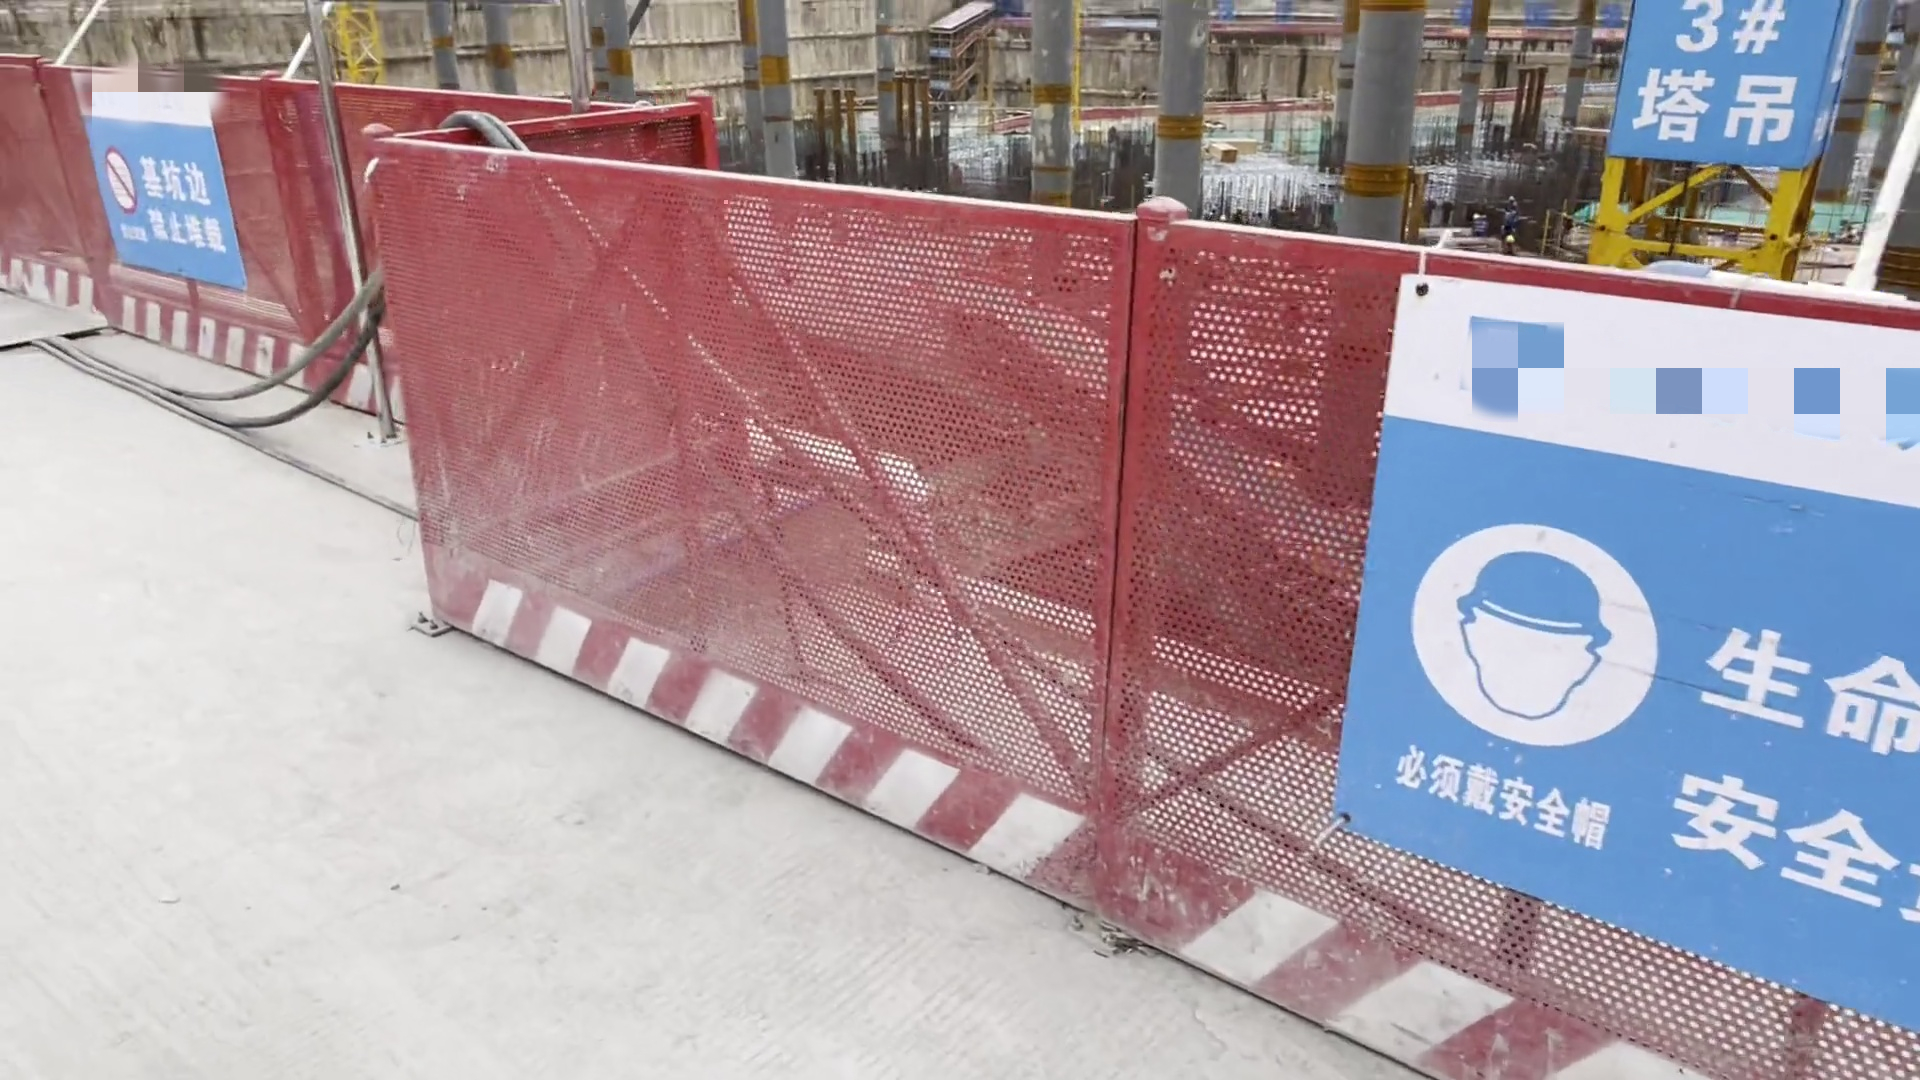fence: (243, 199, 1920, 1039)
slogan: (1425, 429, 1898, 877), (84, 124, 261, 269), (1654, 7, 1805, 148)
